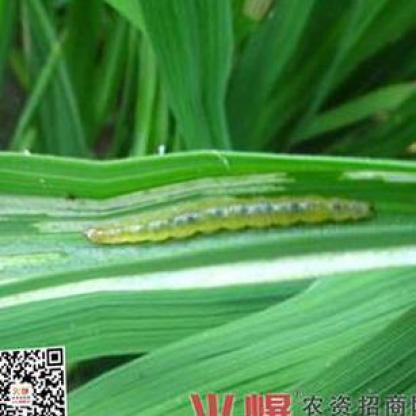leaf-folder: (71, 186, 378, 254)
